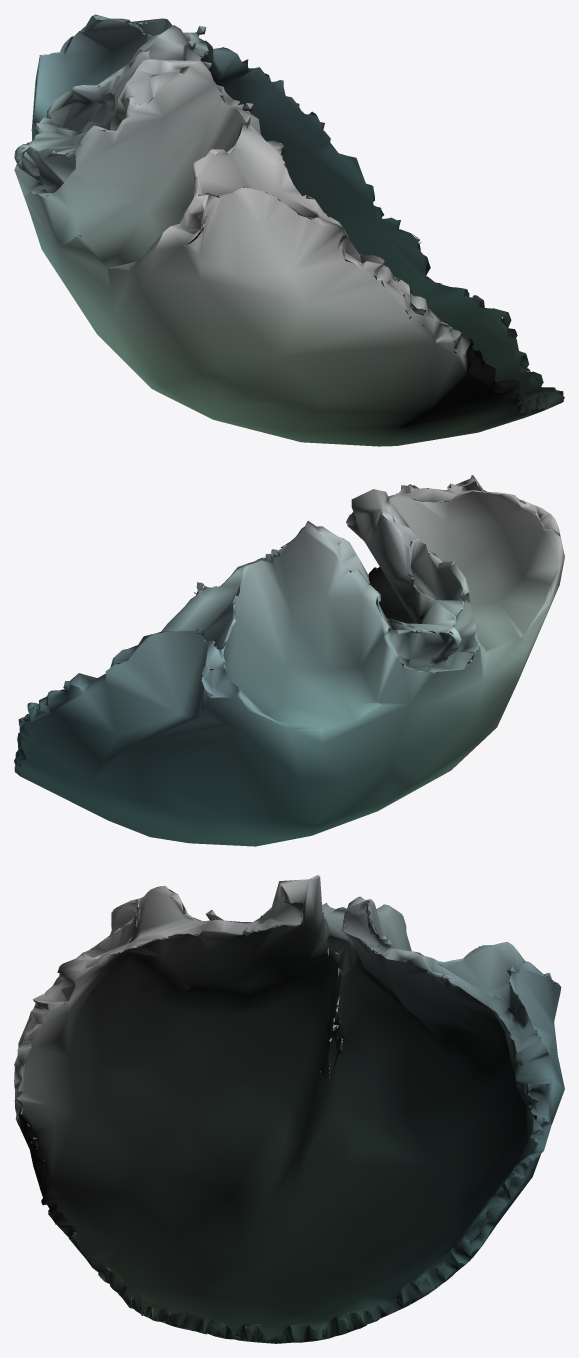
The model's file is zeometry-organic-forms-charred-lump_v1.fbx.
3 renders of one model, top to bottom at view 1: azimuth 30°, elevation 25°; view 2: azimuth 150°, elevation 25°; view 3: azimuth 270°, elevation 25°, orthographic. The views are drawn at different scales.
Parts seen in each view (by area): view 1: Charred Lump; view 2: Charred Lump; view 3: Charred Lump.
Boxes of the visible parts, x1,y1,x2,y2 form: Charred Lump: (14,14,564,446); Charred Lump: (14,475,564,846); Charred Lump: (14,875,564,1343).
Size of the model in its own units: 0.4339 by 0.3507 by 0.5.
